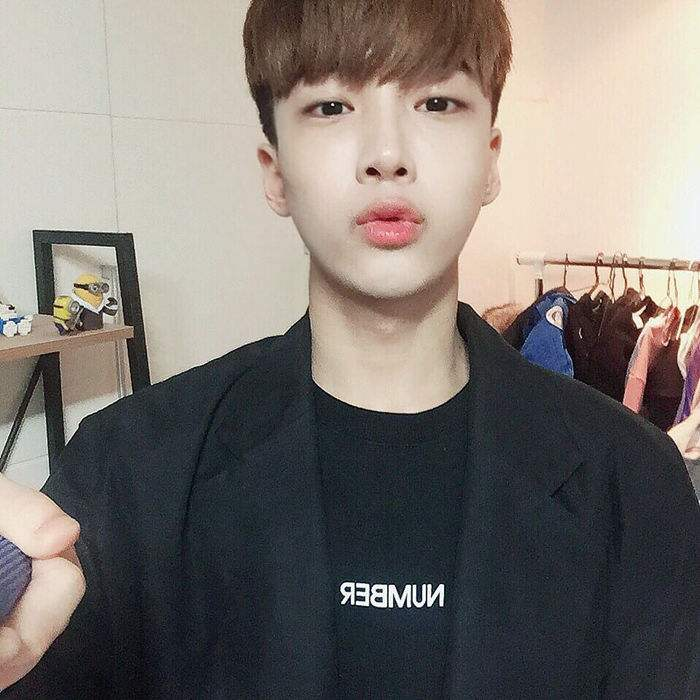person: (205, 2, 661, 700)
